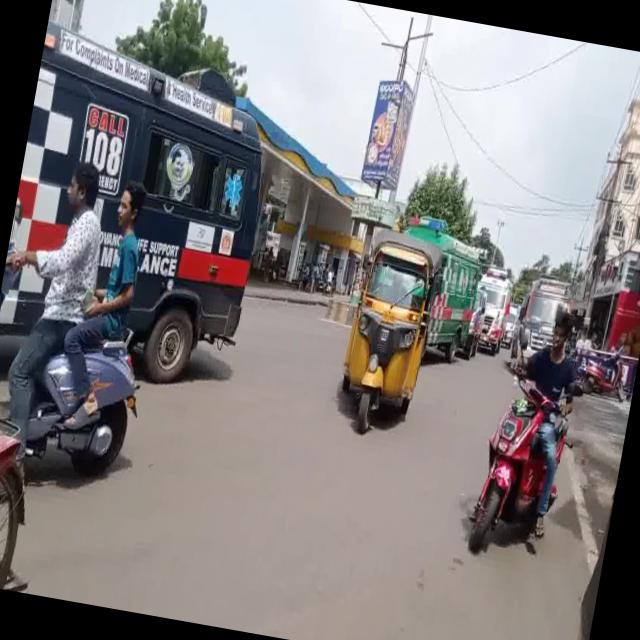ambulance: (0, 4, 299, 373), (422, 223, 486, 397), (507, 252, 583, 377), (464, 258, 515, 384)
